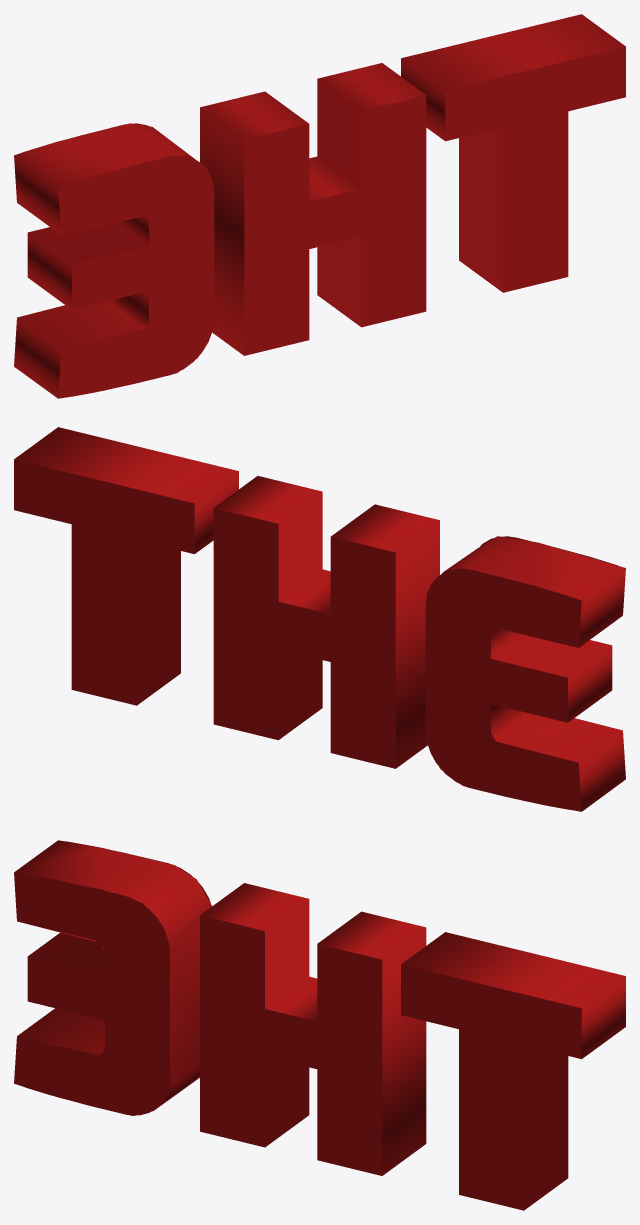
File: the.fbx
The picture shows the model from 3 angles, top to bottom: view 1: azimuth 30°, elevation 25°; view 2: azimuth 150°, elevation 25°; view 3: azimuth 330°, elevation 25°; orthographic projection.
Visible parts, largest first — view 1: Text; view 2: Text; view 3: Text.
Boxes of the visible parts, x1=… form: Text: x1=14, y1=14, x2=625, y2=398; Text: x1=14, y1=427, x2=625, y2=811; Text: x1=14, y1=840, x2=625, y2=1210.
Size of the model in its own units: 5.94 by 2.19 by 0.8.
